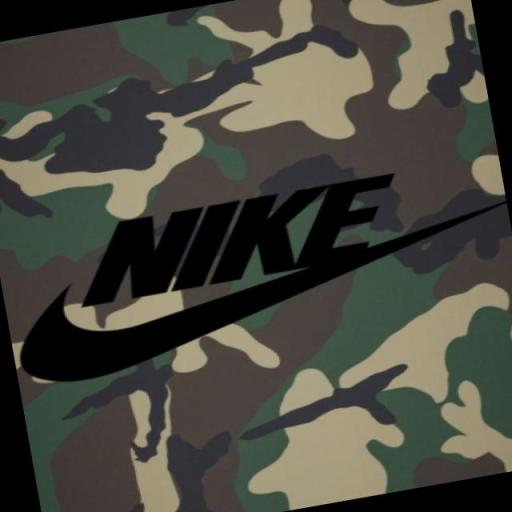Nike: (16, 233, 442, 388), (64, 169, 415, 309)
